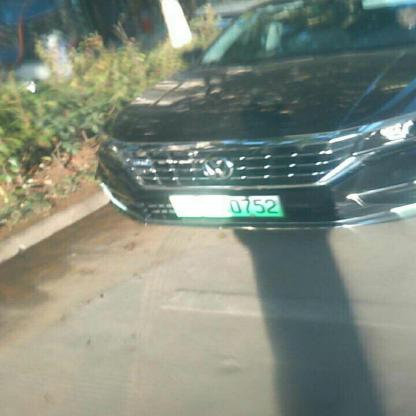lp: (168, 194, 283, 218)
